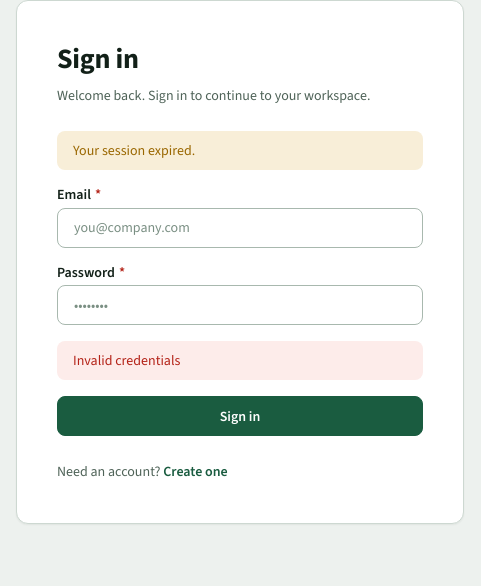
Test case: LoginForm › shows server errors, notices, and clears field errors on edit
Expected: the message "Invalid credentials" is shown, [57,341,423,380]
Expected: the message "Your session expired." is shown, [57,131,423,170]
Click the button "Sign in": (240, 416) [57,396,423,436]
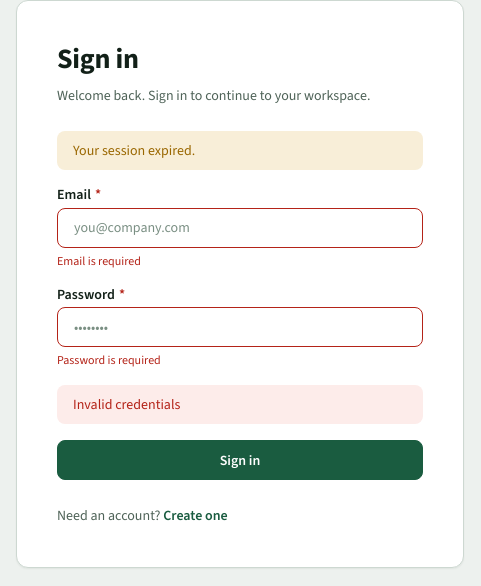
Result: the text "Email is required" is shown at [57,253,141,269]
In the field labelled "Email*": (240, 228) [57,208,423,248], type "owner@company.com"
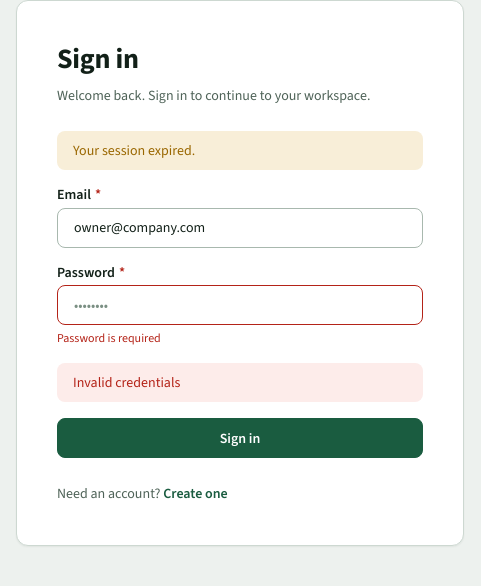
Result: the text "Email is required" is gone
